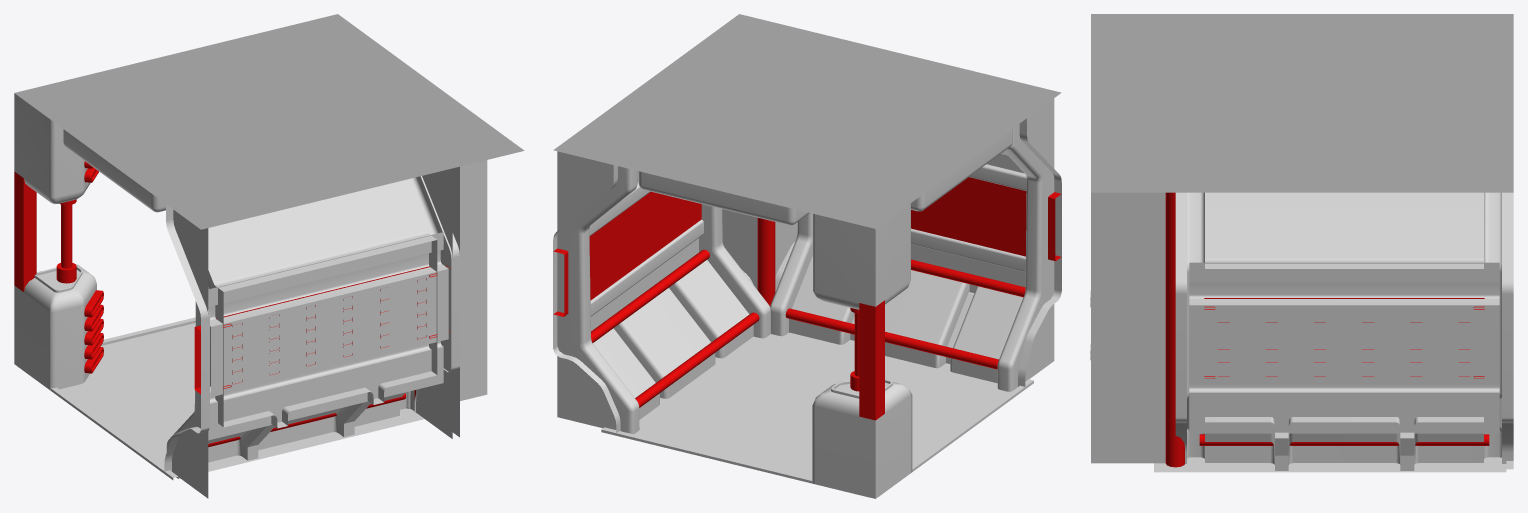
Rendered from gang_ecke.fbx.
The picture shows the model from 3 angles, left to right: view 1: azimuth 30°, elevation 25°; view 2: azimuth 150°, elevation 25°; view 3: azimuth 270°, elevation 25°; orthographic projection. The views are drawn at different scales.
Visible parts, largest first — view 1: gang_ecke; view 2: gang_ecke; view 3: gang_ecke.
Boxes of the visible parts, box(x1,y1,x2,y2) form: gang_ecke: box(14, 14, 524, 498); gang_ecke: box(553, 14, 1061, 498); gang_ecke: box(1090, 14, 1513, 472).
Size of the model in its own units: 5.01 by 4 by 5.01.
